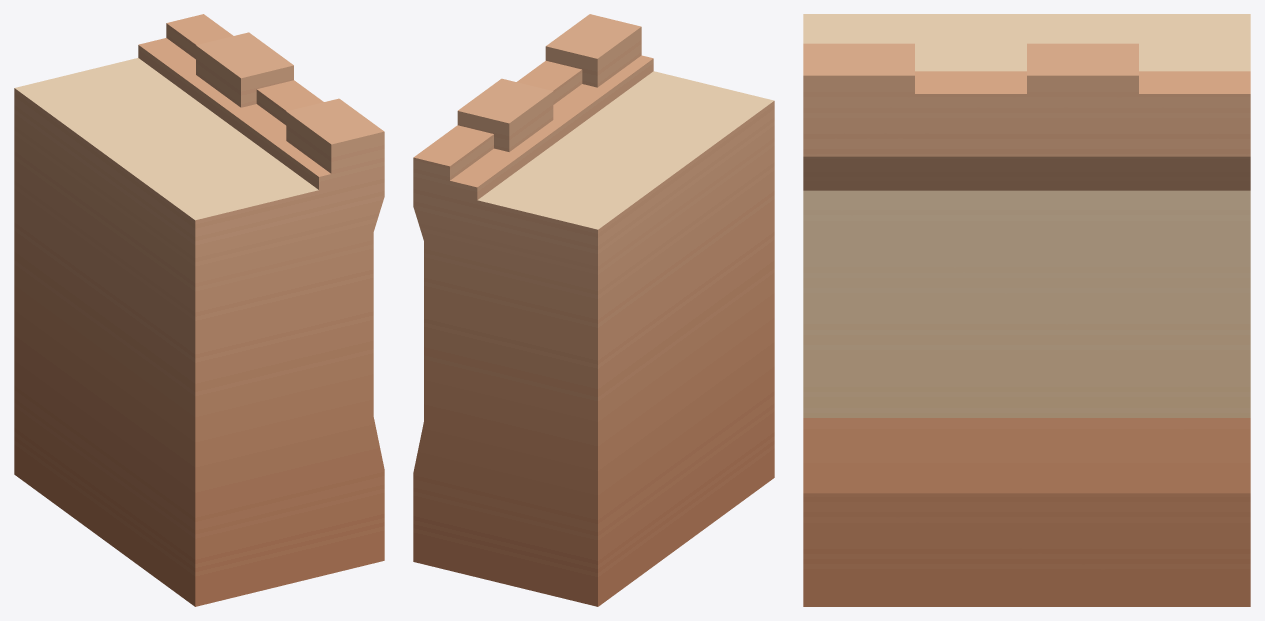
The model's file is wall-half-modular.glb.
The picture shows the model from 3 angles, left to right: view 1: azimuth 30°, elevation 25°; view 2: azimuth 150°, elevation 25°; view 3: azimuth 270°, elevation 25°; orthographic projection. The views are drawn at different scales.
Visible parts, largest first — view 1: wall-half-modular; view 2: wall-half-modular; view 3: wall-half-modular.
Boxes of the visible parts, box(x1,y1,x2,y2) form: wall-half-modular: box(14, 14, 384, 606); wall-half-modular: box(413, 14, 774, 606); wall-half-modular: box(803, 14, 1250, 606).
Size of the model in its own units: 0.6045 by 1.31 by 1.
Materials: 1 (1 with a texture image).
